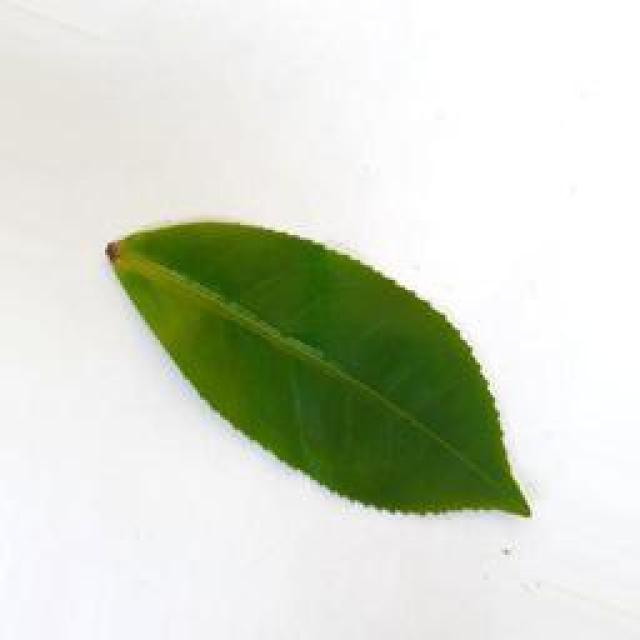Healthy: (85, 220, 538, 523)
